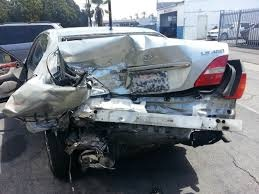Broken-glass: (195, 57, 242, 101), (46, 52, 82, 90)
Dent: (60, 36, 195, 112)
